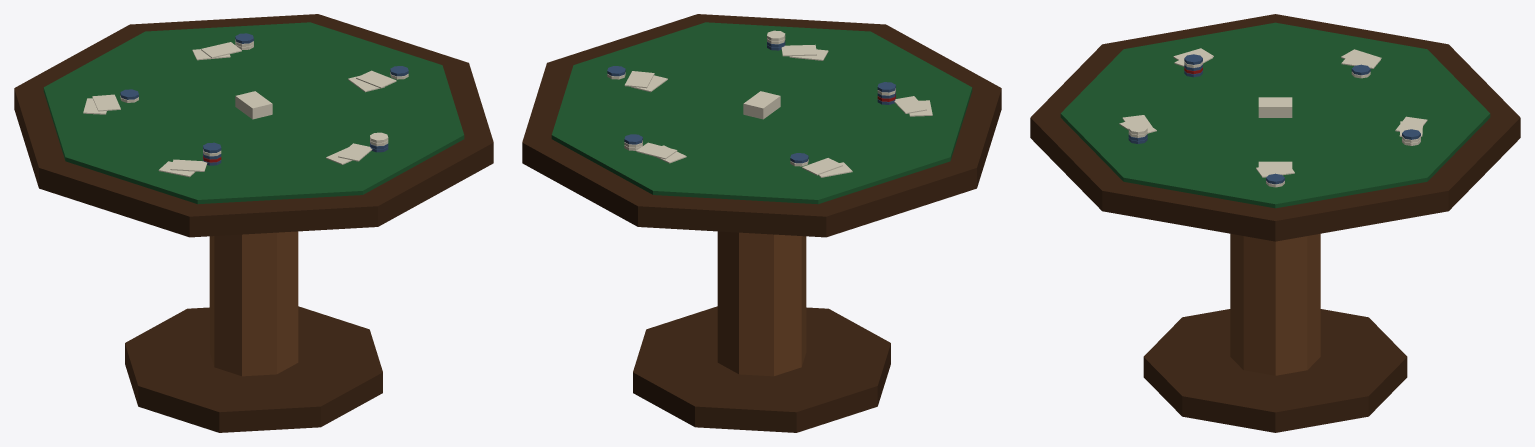
File: SM_Poker_Table.obj
3 renders of one model, left to right at view 1: azimuth 30°, elevation 25°; view 2: azimuth 150°, elevation 25°; view 3: azimuth 270°, elevation 25°, orthographic.
Parts seen in each view (by area): view 1: SM_Poker_Table; view 2: SM_Poker_Table; view 3: SM_Poker_Table.
Part boxes in pixels (x1,y1,x2,y2): SM_Poker_Table: (14, 14, 493, 432); SM_Poker_Table: (522, 14, 1001, 432); SM_Poker_Table: (1030, 14, 1520, 432).
Size of the model in its own units: 1.3 by 0.816 by 1.3.
